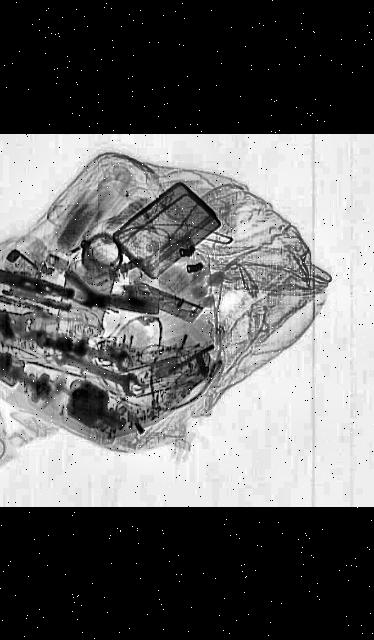Wrench: (47, 347, 153, 399), (32, 331, 142, 375)
